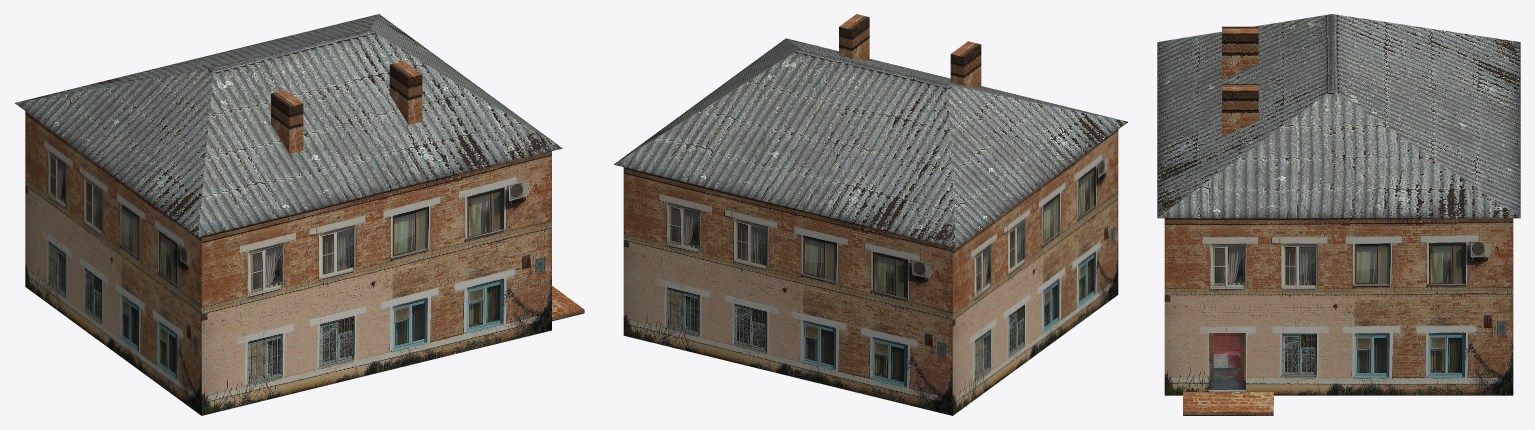
The picture shows the model from 3 angles, left to right: view 1: azimuth 30°, elevation 25°; view 2: azimuth 150°, elevation 25°; view 3: azimuth 270°, elevation 25°; orthographic projection. The views are drawn at different scales.
Parts seen in each view (by area): view 1: ec404040-1bac-4e82-bdb7-f7036ddda535; view 2: ec404040-1bac-4e82-bdb7-f7036ddda535; view 3: ec404040-1bac-4e82-bdb7-f7036ddda535.
Boxes of the visible parts, bbox=[...] form: ec404040-1bac-4e82-bdb7-f7036ddda535: bbox=[15, 14, 584, 415]; ec404040-1bac-4e82-bdb7-f7036ddda535: bbox=[614, 14, 1127, 415]; ec404040-1bac-4e82-bdb7-f7036ddda535: bbox=[1157, 14, 1520, 415].
Size of the model in its own units: 12.21 by 7.65 by 9.72.
1 material, 1 textured.
